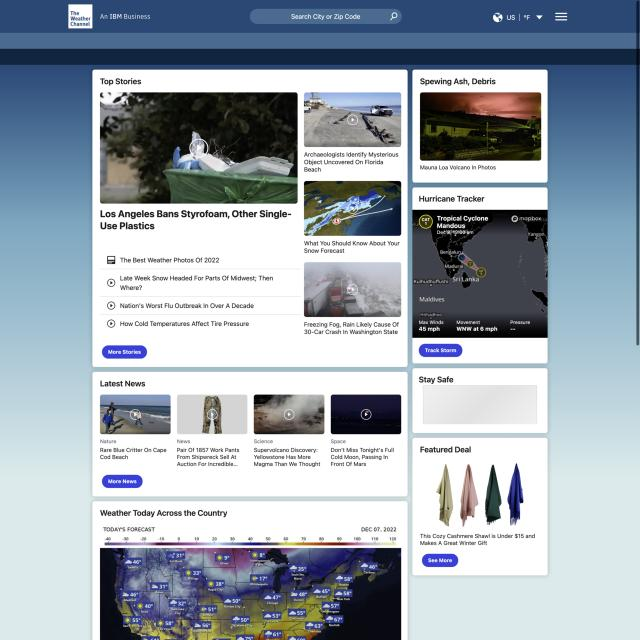input: (248, 7, 402, 26)
logo: (67, 2, 95, 29)
navigation: (552, 12, 570, 24)
